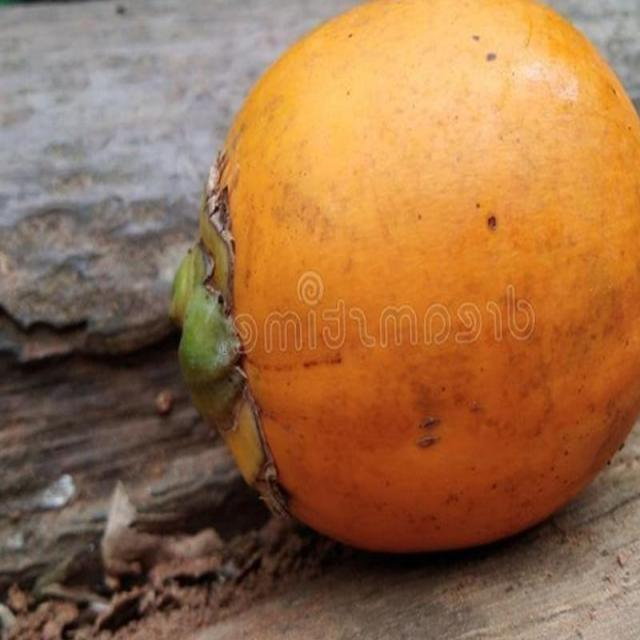good: (170, 0, 639, 558)
